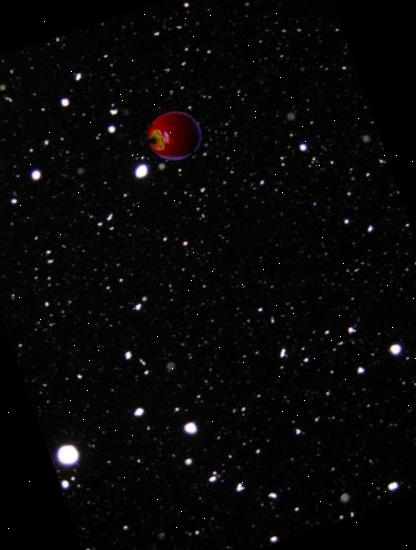Tamarillo: (136, 100, 212, 174)
